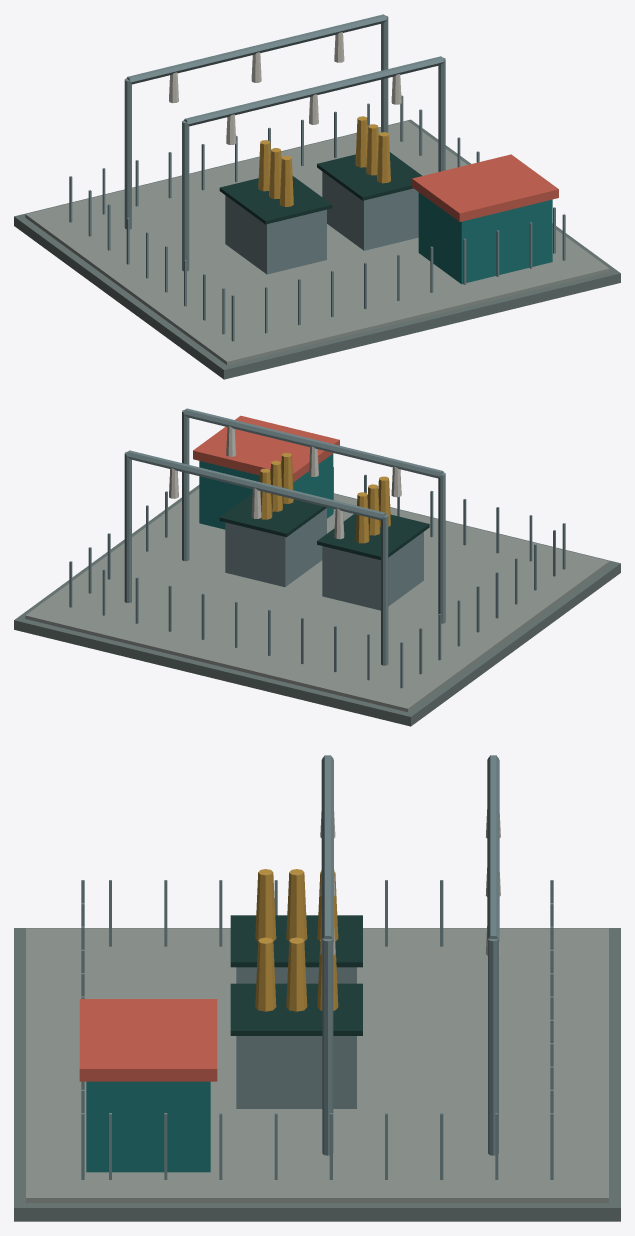
Rendered from substation_lv1.glb.
The picture shows the model from 3 angles, top to bottom: view 1: azimuth 30°, elevation 25°; view 2: azimuth 150°, elevation 25°; view 3: azimuth 270°, elevation 25°; orthographic projection. The views are drawn at different scales.
Visible parts, largest first — view 1: rough, metallic; view 2: rough, metallic; view 3: rough, metallic.
Boxes of the visible parts, <box> form: rough: <box>14,32,620,379</box>; metallic: <box>69,14,565,341</box>; rough: <box>14,415,620,726</box>; metallic: <box>69,408,565,688</box>; rough: <box>14,809,620,1221</box>; metallic: <box>81,755,553,1179</box>.
Bounding box in the file's own units: 9.6 × 3.78 × 8.8.
